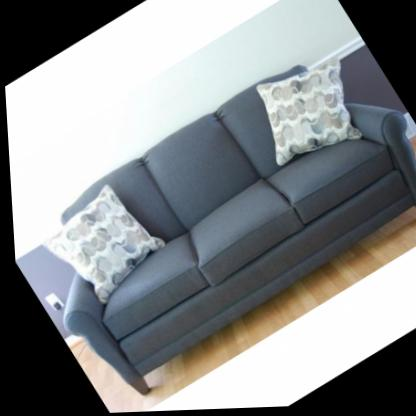Sofa: (2, 26, 416, 412)
